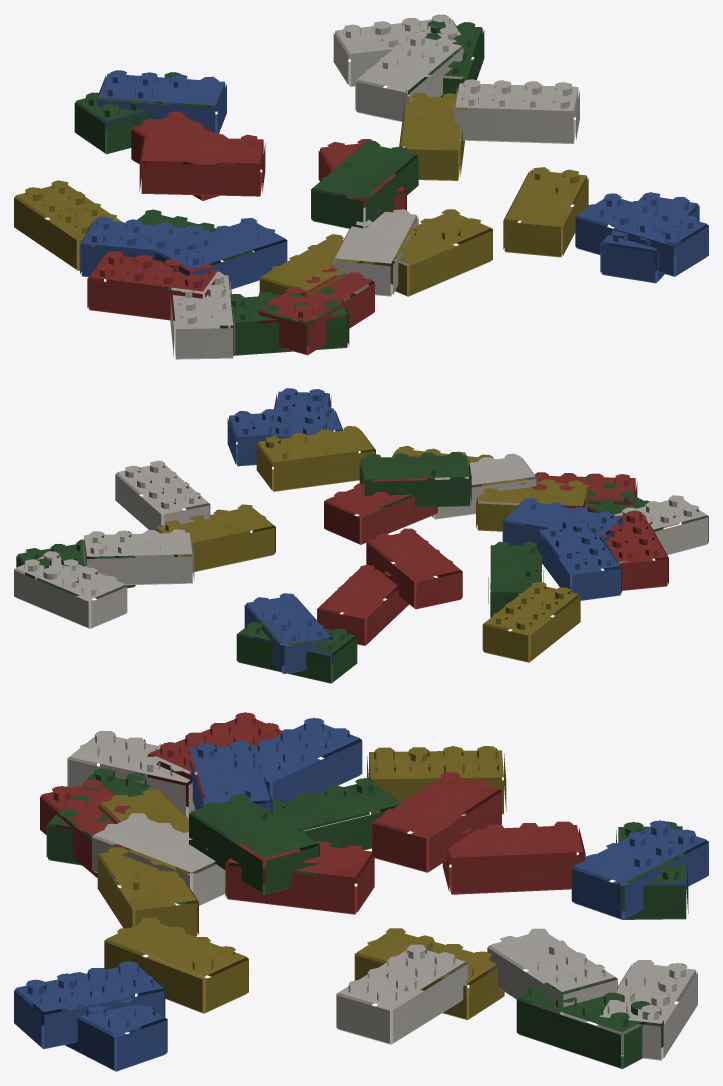
The model's file is TY43_BuildingBricksPile.glb.
3 renders of one model, top to bottom at view 1: azimuth 30°, elevation 25°; view 2: azimuth 150°, elevation 25°; view 3: azimuth 270°, elevation 25°, orthographic. The views are drawn at different scales.
Parts seen in each view (by area): view 1: TY43_BuildingBricksPile; view 2: TY43_BuildingBricksPile; view 3: TY43_BuildingBricksPile.
Boxes of the visible parts, x1=… form: TY43_BuildingBricksPile: x1=14, y1=14, x2=708, y2=359; TY43_BuildingBricksPile: x1=14, y1=388, x2=708, y2=683; TY43_BuildingBricksPile: x1=14, y1=712, x2=708, y2=1071.
Size of the model in its own units: 0.3994 by 0.0625 by 0.3815.
Materials: 5 (5 with a texture image).
